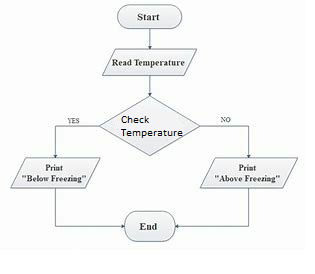arrow: (174, 187, 250, 229), (53, 186, 126, 229), (197, 124, 250, 158), (51, 123, 101, 158), (145, 25, 152, 49), (146, 73, 152, 99)
data: (198, 155, 299, 190), (7, 155, 102, 188), (101, 48, 200, 77)
decision: (97, 92, 203, 157)
terminator: (114, 3, 184, 31), (124, 209, 177, 242)
text: (213, 162, 280, 184), (120, 114, 184, 137), (19, 163, 86, 184), (110, 58, 184, 70), (135, 13, 159, 22), (138, 221, 159, 230), (220, 114, 233, 123), (66, 115, 79, 122)
